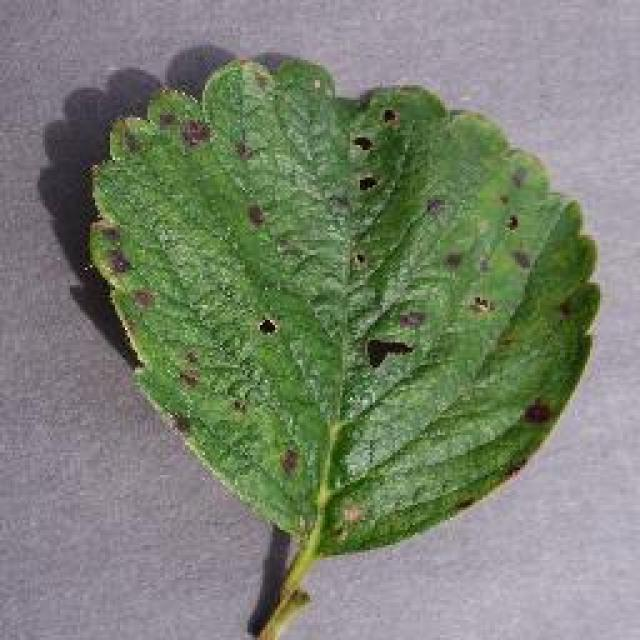Strawberry leaf scorch: (158, 97, 495, 430)
